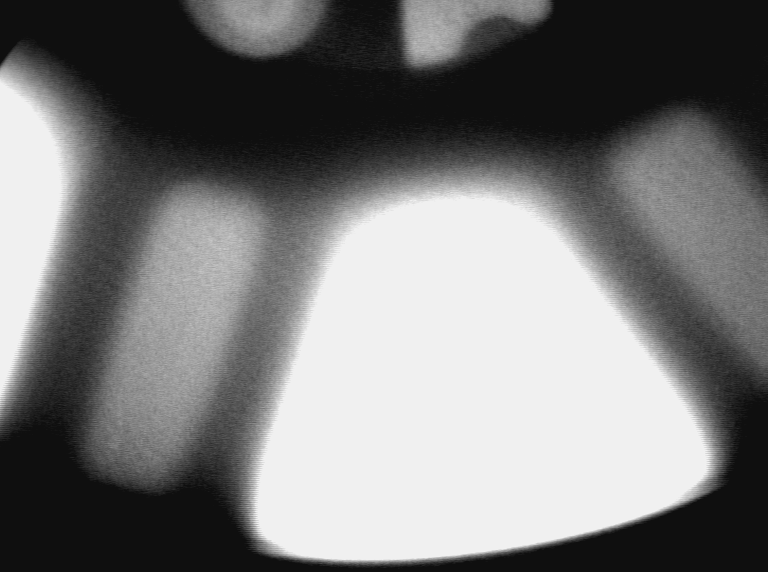defect: (103, 393, 126, 466)
